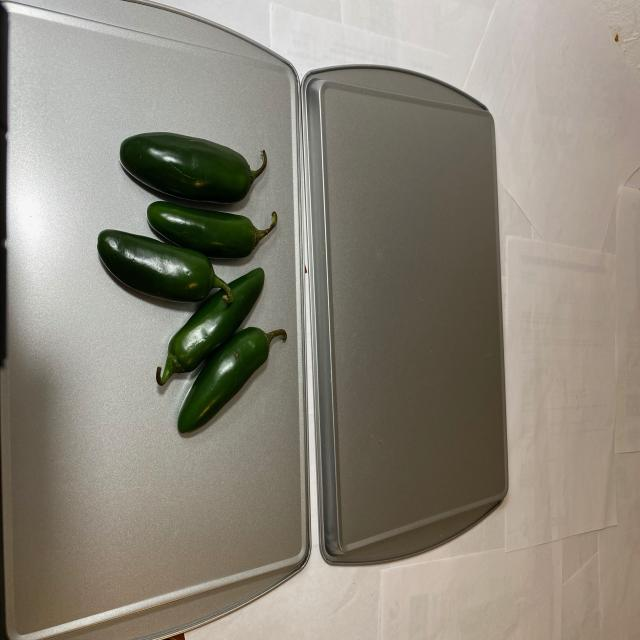chilli: (92, 107, 286, 447)
